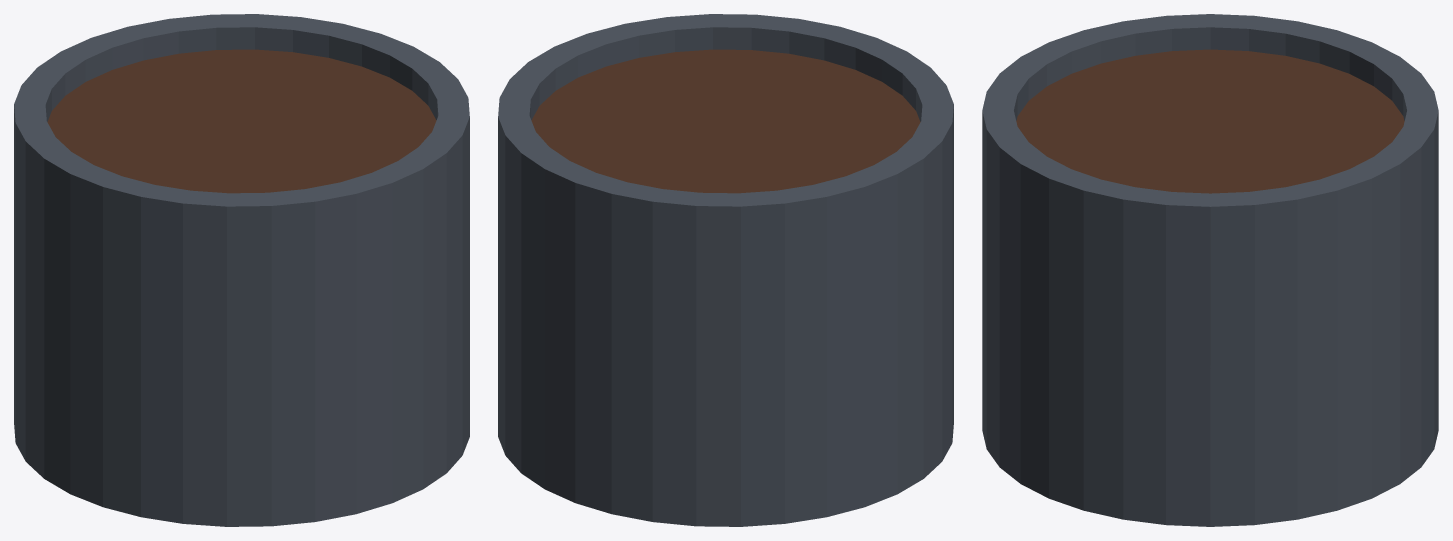
The model's file is pot.fbx.
3 renders of one model, left to right at view 1: azimuth 30°, elevation 25°; view 2: azimuth 150°, elevation 25°; view 3: azimuth 270°, elevation 25°, orthographic.
Visible parts, largest first — view 1: Cylinder.001, Cylinder; view 2: Cylinder.001, Cylinder; view 3: Cylinder.001, Cylinder.
Part boxes in pixels (x1,y1,x2,y2): Cylinder.001: (14, 14, 469, 526); Cylinder: (47, 49, 436, 193); Cylinder.001: (498, 14, 953, 526); Cylinder: (531, 49, 920, 193); Cylinder.001: (982, 14, 1438, 526); Cylinder: (1016, 49, 1404, 193).
Bounding box in the file's own units: 292 × 226 × 292.
